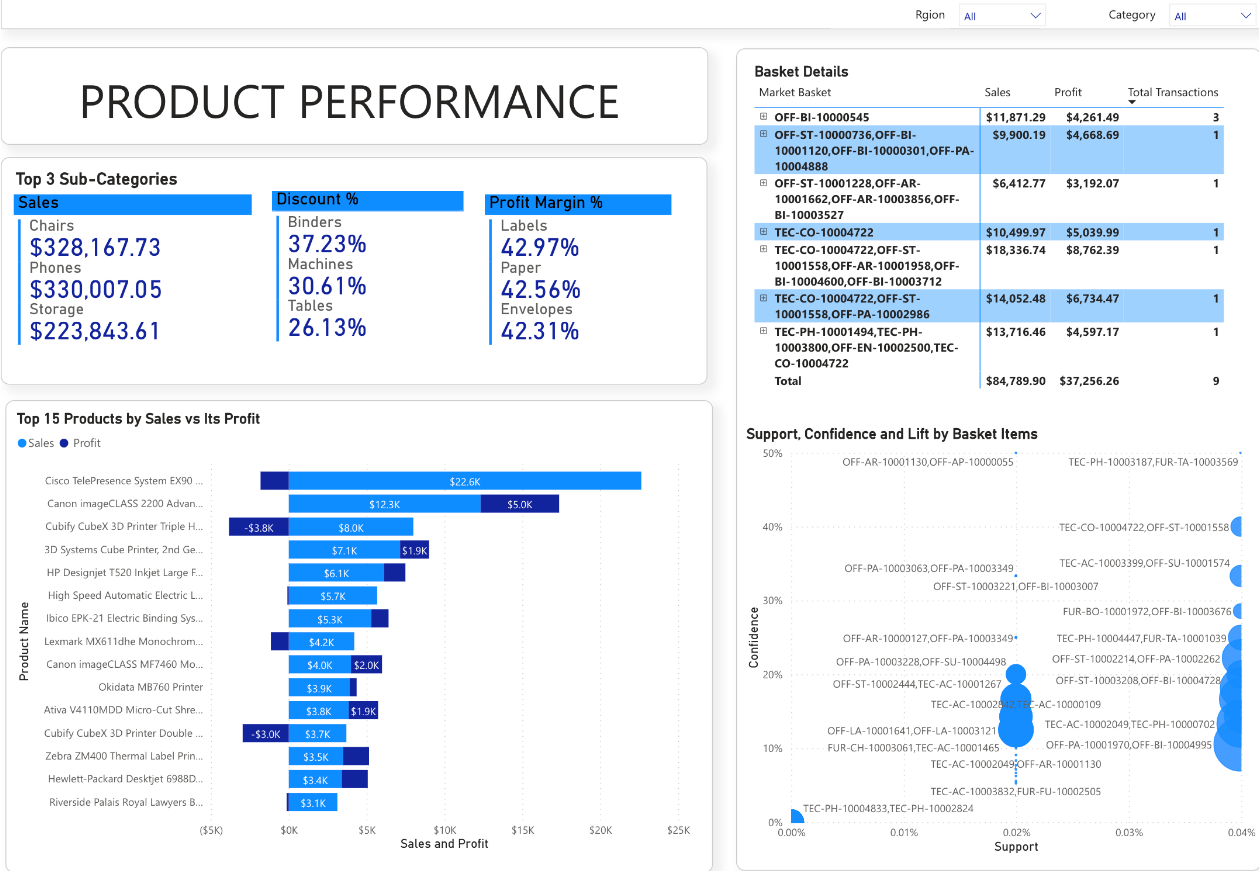

What the dashboard file says about the page in this screenshot:
{"tool":"powerbi","page":{"name":"Product Performance","canvas":[1280,720],"ordinal":3},"visuals":[{"type":"pageNavigator","box":[0,0,1280.3,52.6],"z":0}]}

Visuals, with their boxes on the page's 1280x720 design canvas (x1, y1, x2, y2). These are canvas units, not pixel positions in the 1259x871 screenshot, which may show the page scaled, cropped or inside an application window:
pageNavigator: bbox=[0, 0, 1280, 53]
